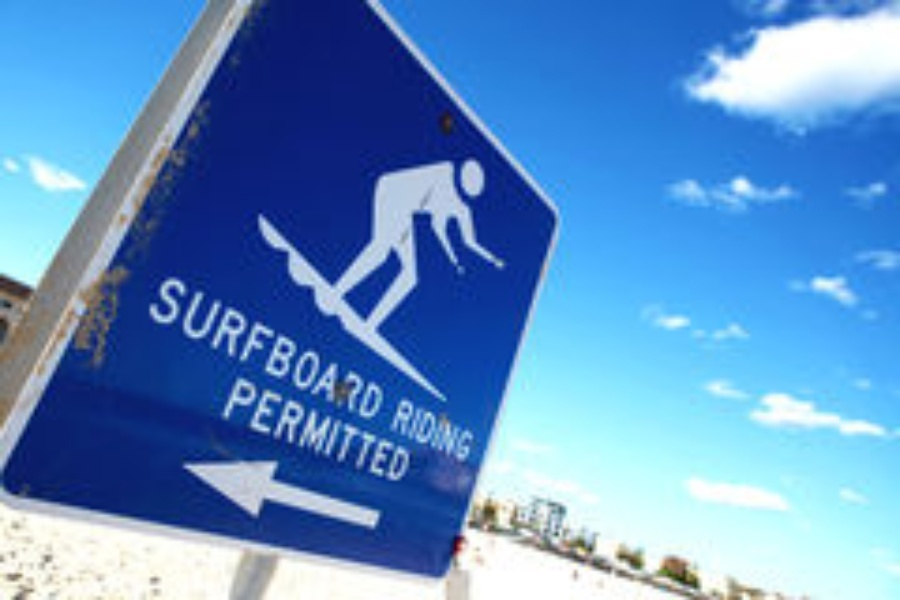text: (177, 271, 192, 424), (193, 271, 208, 424), (209, 271, 224, 424), (225, 271, 240, 424), (241, 271, 256, 424), (257, 271, 272, 424), (273, 271, 288, 424), (289, 271, 304, 424), (305, 271, 320, 424), (321, 271, 336, 424), (337, 271, 352, 424), (353, 271, 368, 424), (369, 271, 384, 424), (241, 376, 256, 484), (257, 376, 272, 484), (273, 376, 288, 484), (289, 376, 304, 484), (305, 376, 320, 484), (321, 376, 336, 484), (337, 376, 352, 484), (353, 376, 368, 484), (369, 376, 384, 484), (385, 376, 400, 484), (166, 271, 176, 424), (401, 394, 416, 462), (417, 394, 432, 462), (433, 394, 448, 462), (449, 394, 464, 462), (401, 376, 409, 484), (465, 394, 477, 462), (237, 376, 240, 484), (385, 271, 387, 424), (398, 394, 400, 462)
